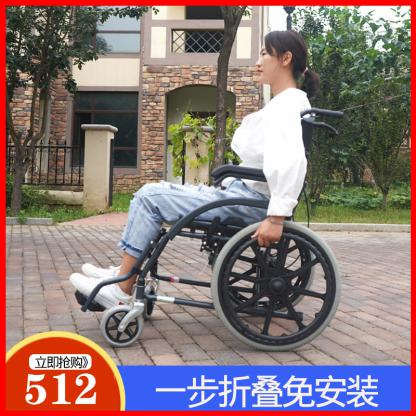wheelchair: (80, 28, 344, 355)
